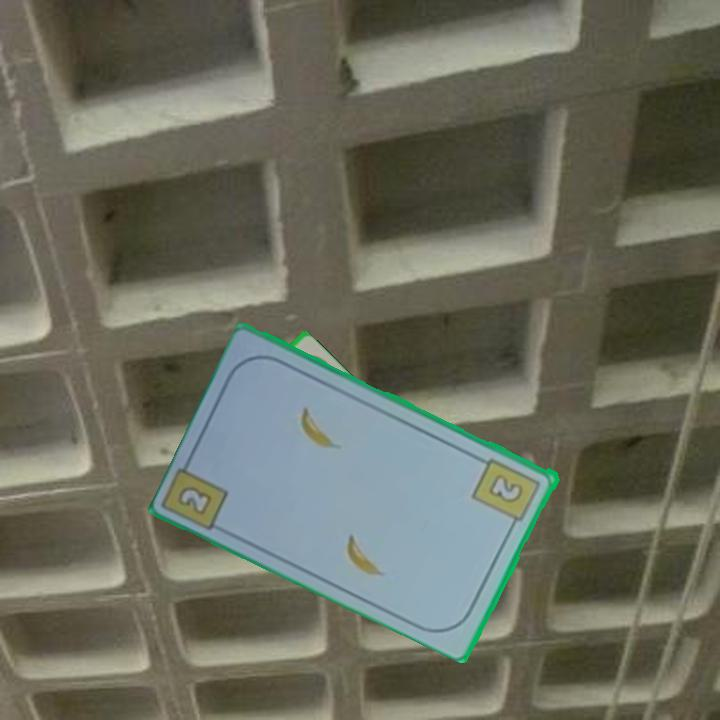2b: (469, 454, 544, 532), (174, 482, 216, 519)
